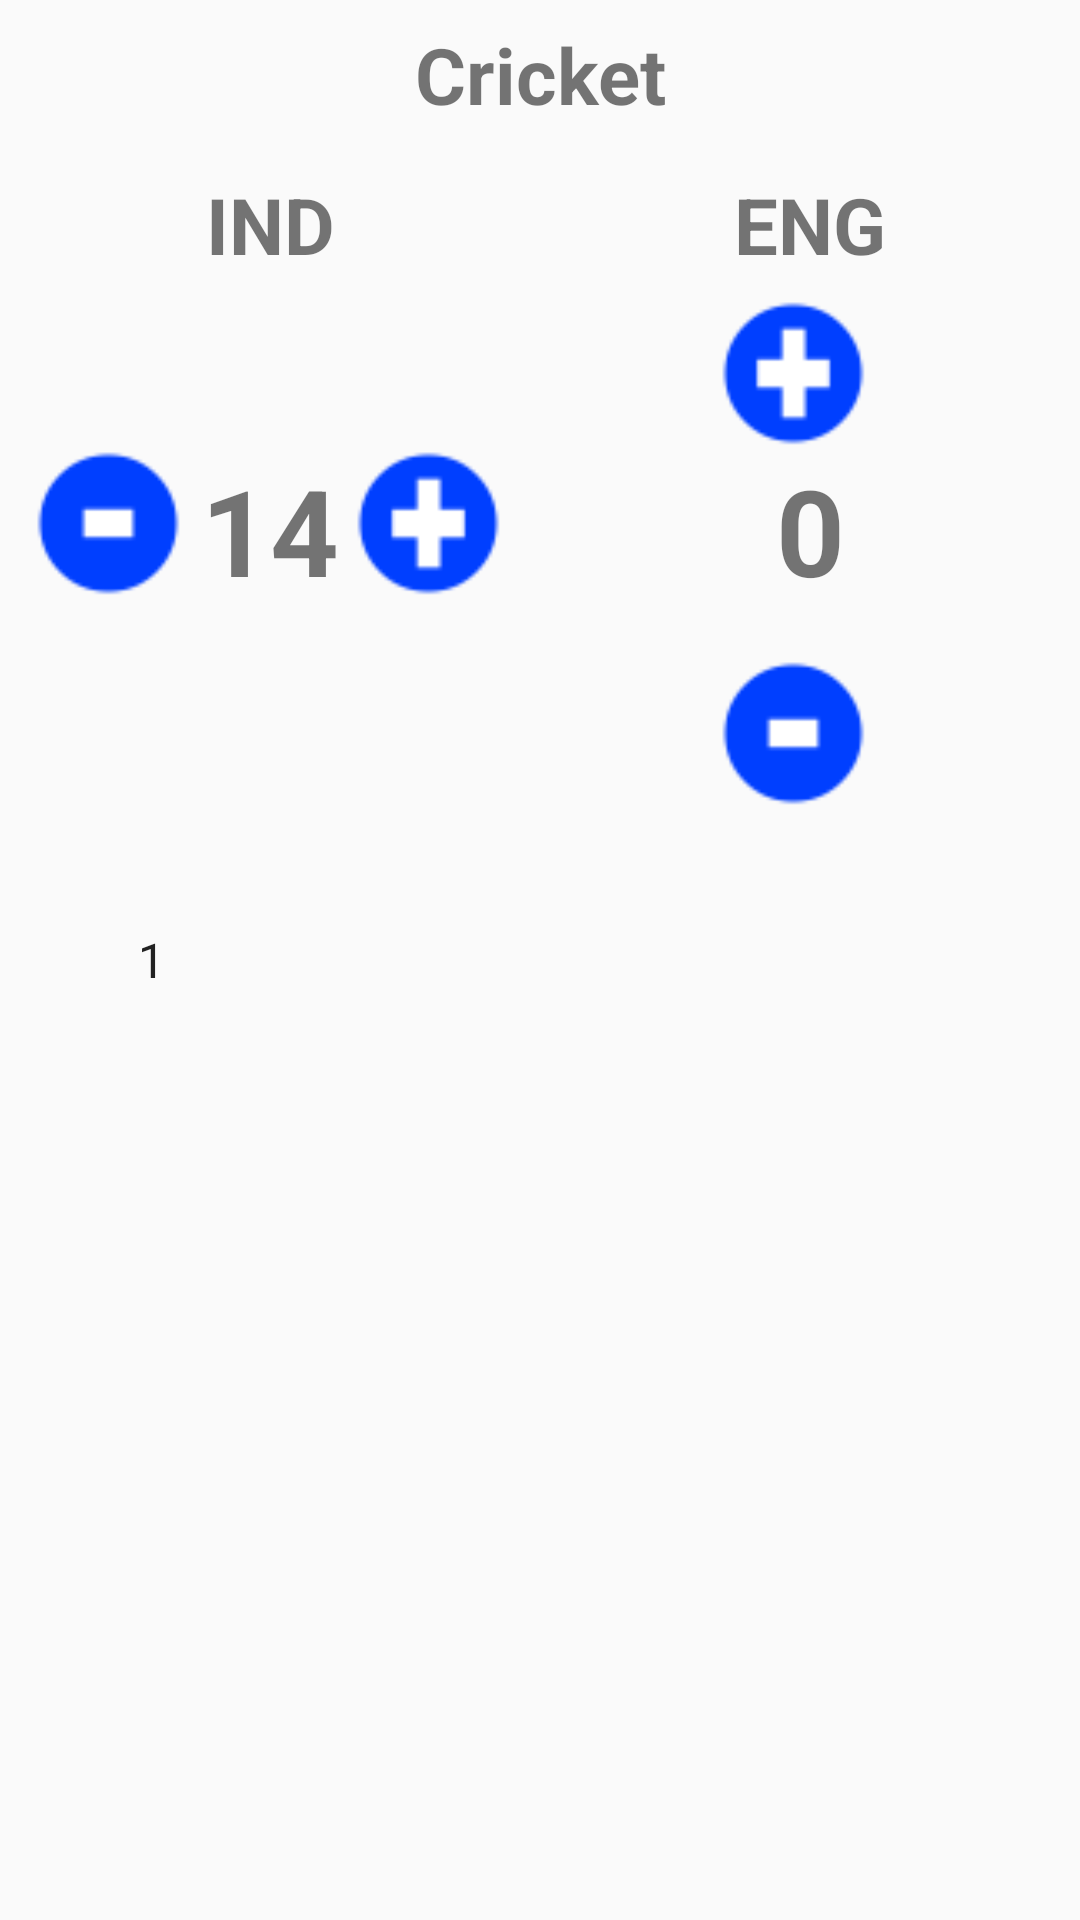

Screen size 1080x1920. Icon name, then its box in pixels as {"x1": x1, "y1": y1, "x2": x2, "y2": y2}:
minus: {"x1": 37, "y1": 452, "x2": 179, "y2": 594}, {"x1": 722, "y1": 662, "x2": 864, "y2": 804}
plus: {"x1": 722, "y1": 302, "x2": 864, "y2": 444}, {"x1": 357, "y1": 452, "x2": 499, "y2": 594}
